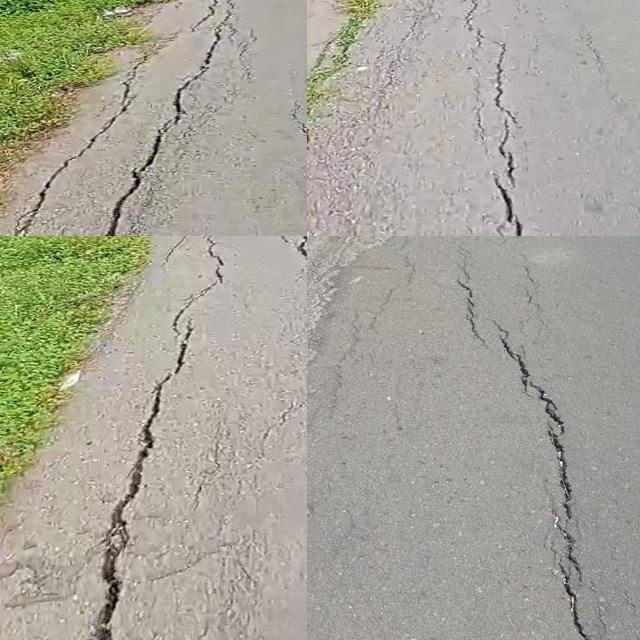Memanjang: (77, 236, 237, 640), (445, 264, 615, 640), (70, 0, 245, 236), (461, 0, 546, 236)
